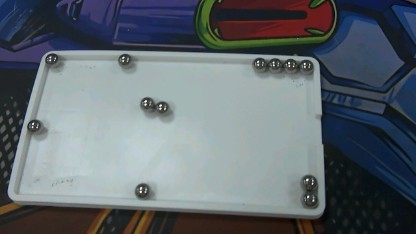ironball: (21, 115, 45, 135), (295, 191, 320, 209), (296, 55, 317, 75), (131, 180, 150, 200), (136, 96, 156, 114), (268, 53, 283, 76), (41, 50, 61, 67), (299, 172, 317, 189), (250, 55, 267, 73), (283, 54, 296, 75), (115, 52, 133, 66), (154, 98, 169, 114)
